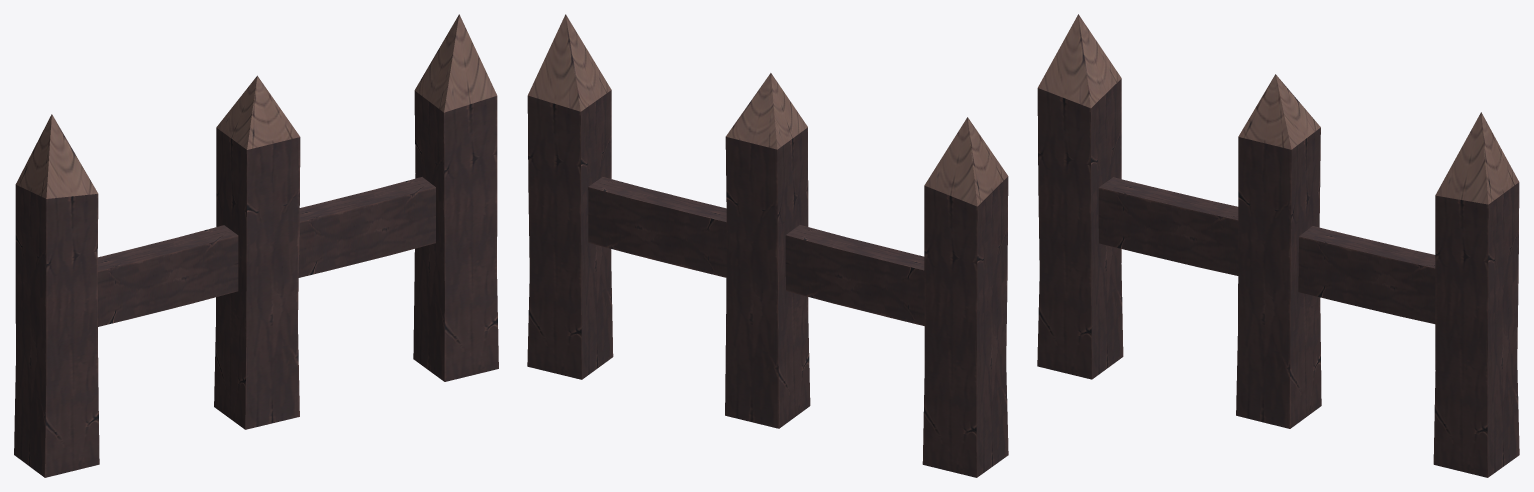
The model's file is SmallFence_a.FBX.
The picture shows the model from 3 angles, left to right: view 1: azimuth 30°, elevation 25°; view 2: azimuth 150°, elevation 25°; view 3: azimuth 330°, elevation 25°; orthographic projection.
Visible parts, largest first — view 1: Box042; view 2: Box042; view 3: Box042.
Part boxes in pixels (left/top/right/bottom): Box042: left=14, top=14, right=498, bottom=477; Box042: left=527, top=14, right=1008, bottom=477; Box042: left=1037, top=14, right=1519, bottom=477.
Bounding box in the file's own units: 3.82 × 2.81 × 0.4833.
1 material, 1 textured.
